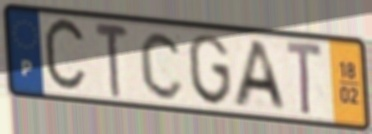A: (230, 39, 290, 114)
C: (41, 14, 89, 98), (137, 28, 186, 102)
G: (185, 31, 235, 108)
T: (283, 37, 325, 119), (92, 19, 132, 101)
